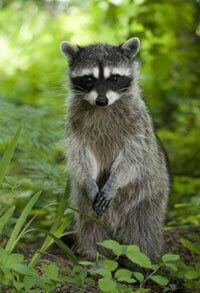raccoon: (59, 36, 175, 264)
